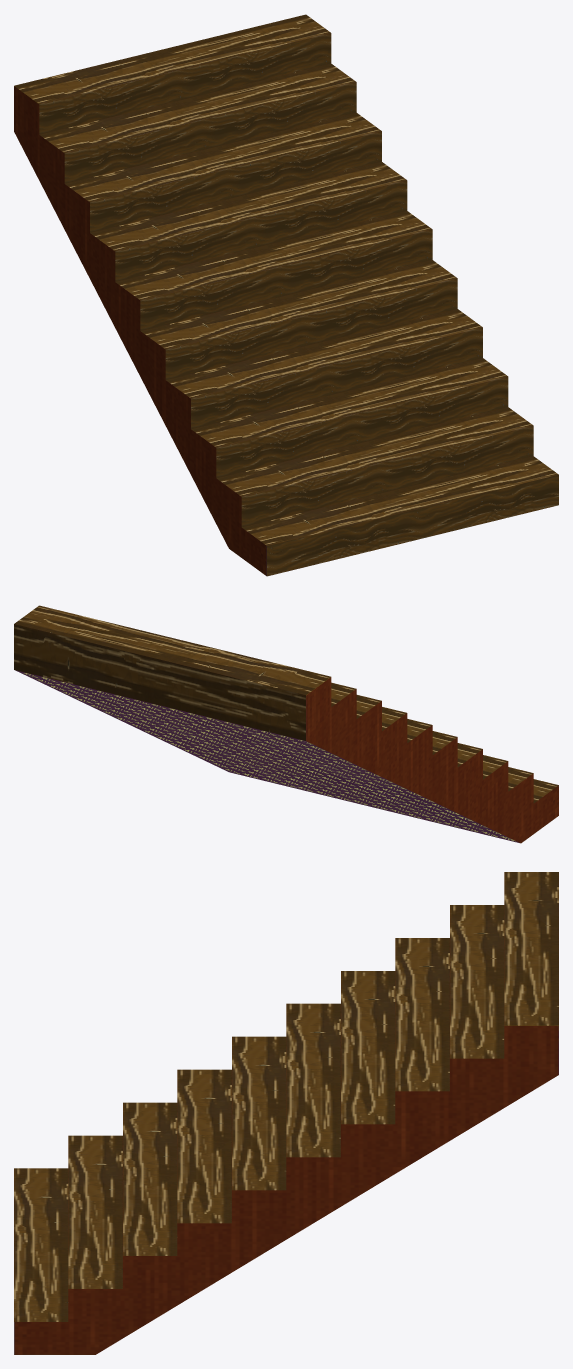
Rendered from SM_Stairs_Flight_2m.fbx.
The picture shows the model from 3 angles, top to bottom: view 1: azimuth 30°, elevation 25°; view 2: azimuth 150°, elevation 25°; view 3: azimuth 270°, elevation 25°; orthographic projection. The views are drawn at different scales.
Visible parts, largest first — view 1: SM_Stairs_Flight_2m; view 2: SM_Stairs_Flight_2m; view 3: SM_Stairs_Flight_2m.
Part boxes in pixels (bbox=[...]): SM_Stairs_Flight_2m: bbox=[14, 14, 558, 576]; SM_Stairs_Flight_2m: bbox=[14, 605, 558, 843]; SM_Stairs_Flight_2m: bbox=[14, 872, 558, 1354].
Bounding box in the file's own units: 2 × 2 × 3.
